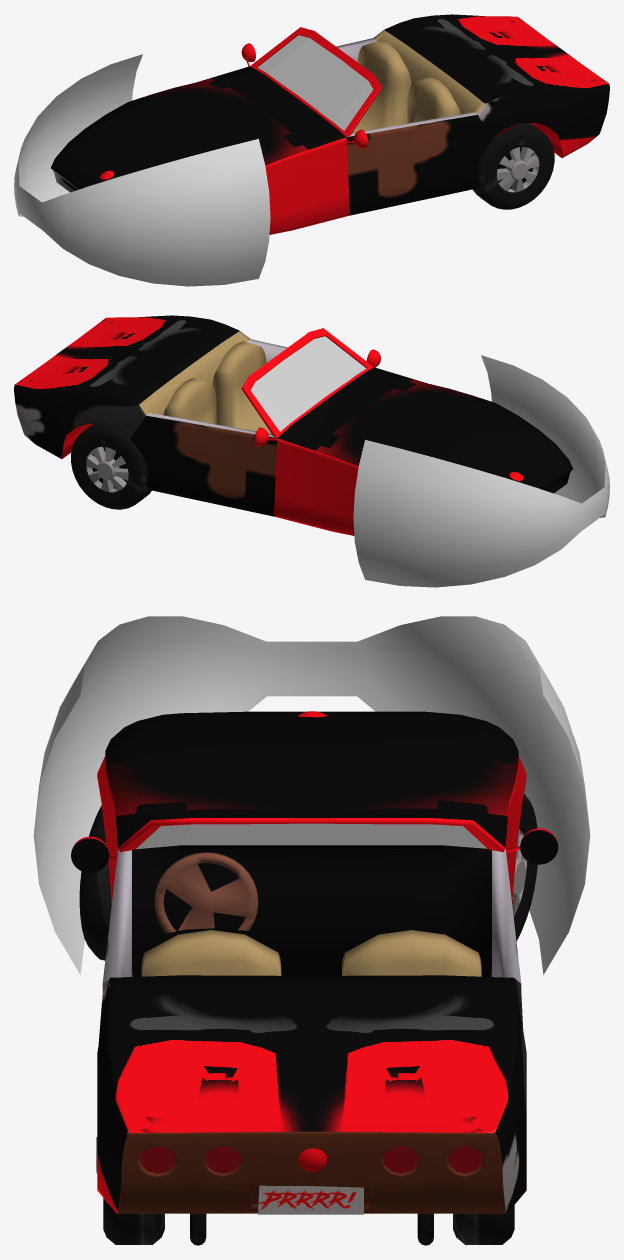
Rendered from PinkyMobile.fbx.
The picture shows the model from 3 angles, top to bottom: view 1: azimuth 30°, elevation 25°; view 2: azimuth 150°, elevation 25°; view 3: azimuth 270°, elevation 25°; orthographic projection. The views are drawn at different scales.
Parts seen in each view (by area): view 1: Cube.001, SpeedBoostCage; view 2: Cube.001, SpeedBoostCage; view 3: Cube.001, SpeedBoostCage.
Part boxes in pixels (bbox=[...]): Cube.001: bbox=[51, 14, 609, 234]; SpeedBoostCage: bbox=[14, 54, 270, 286]; Cube.001: bbox=[14, 315, 572, 535]; SpeedBoostCage: bbox=[353, 355, 609, 587]; Cube.001: bbox=[71, 711, 558, 1245]; SpeedBoostCage: bbox=[33, 616, 590, 974].
Bounding box in the file's own units: 2287 × 614 × 1034.
